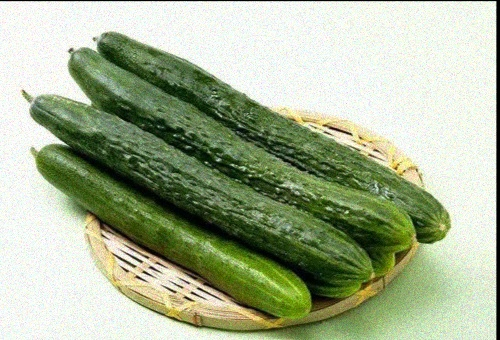cucumber: (97, 26, 445, 231), (68, 50, 423, 237), (27, 91, 366, 277), (29, 142, 307, 311)
